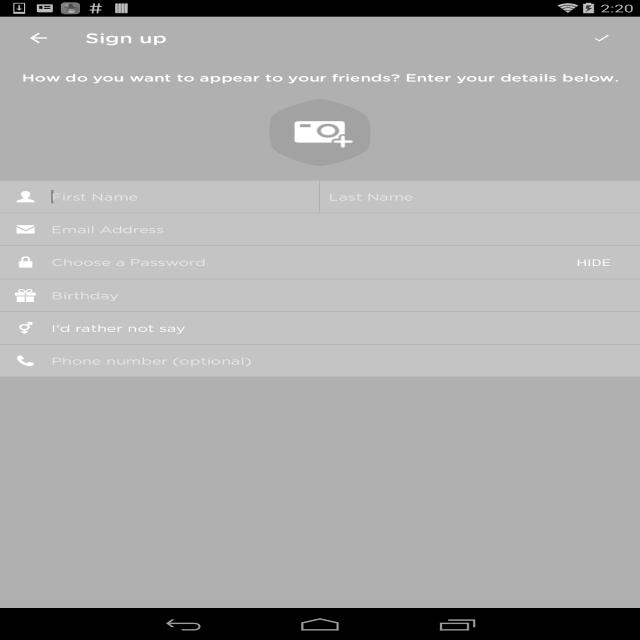Button: (546, 246, 640, 278)
EditText: (0, 213, 640, 246), (0, 344, 640, 376), (0, 246, 546, 278), (320, 180, 640, 212), (0, 180, 319, 212)
ImageButton: (9, 17, 68, 59), (576, 22, 627, 54)
ImageView: (260, 95, 380, 170)
TextView: (0, 280, 640, 312), (0, 312, 640, 344), (21, 70, 619, 85), (85, 29, 167, 47)
